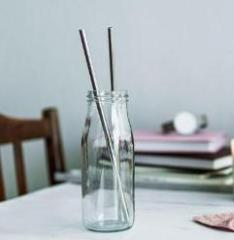glass: (80, 92, 136, 234)
